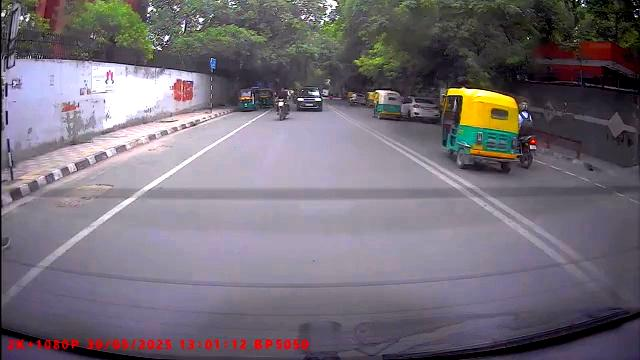motorcycle_without_helmet: (275, 87, 291, 121)
